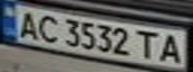2: (112, 25, 133, 57)
3: (57, 16, 81, 48), (93, 22, 115, 55)
5: (78, 20, 96, 52)
A: (157, 31, 187, 64), (12, 8, 42, 39)
C: (33, 12, 63, 44)
T: (136, 28, 163, 61)
